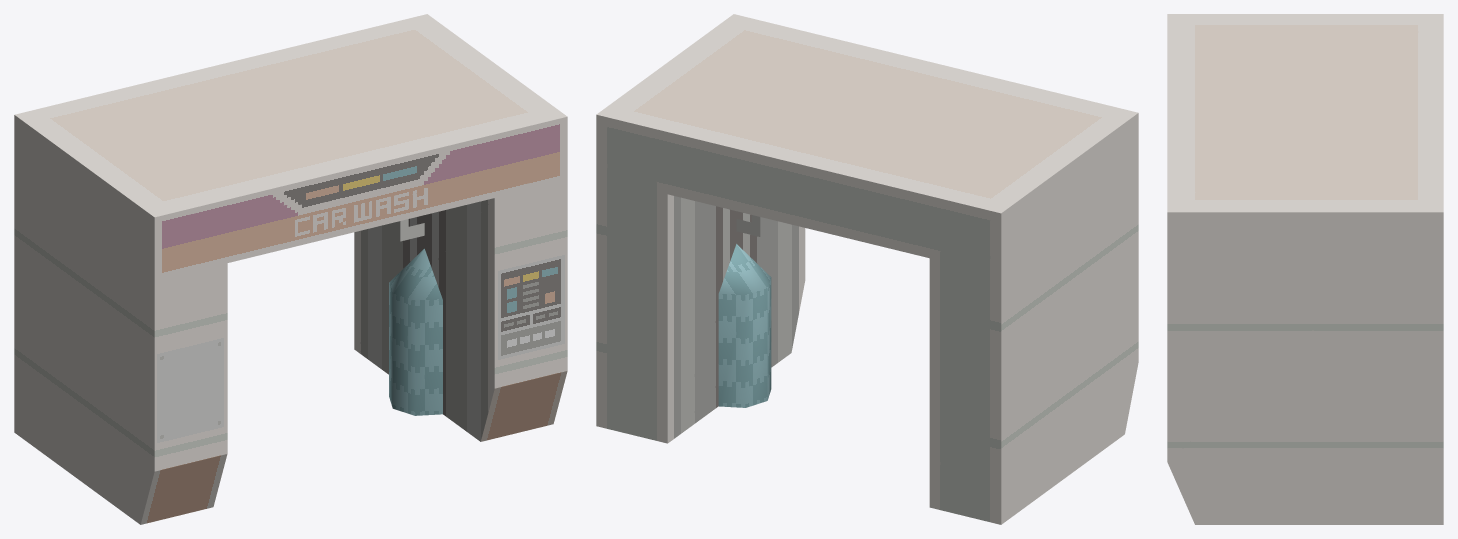
Rendered from 0439_Car_Wash.glb.
The picture shows the model from 3 angles, left to right: view 1: azimuth 30°, elevation 25°; view 2: azimuth 150°, elevation 25°; view 3: azimuth 270°, elevation 25°; orthographic projection. The views are drawn at different scales.
Visible parts, largest first — view 1: part_0; view 2: part_0; view 3: part_0.
Part boxes in pixels (box(x1,y1,x2,y2)): part_0: box(14, 14, 567, 524); part_0: box(596, 14, 1138, 524); part_0: box(1167, 14, 1443, 524).
Size of the model in its own units: 3.4 by 2.5 by 2.
Materials: 1 (1 with a texture image).
